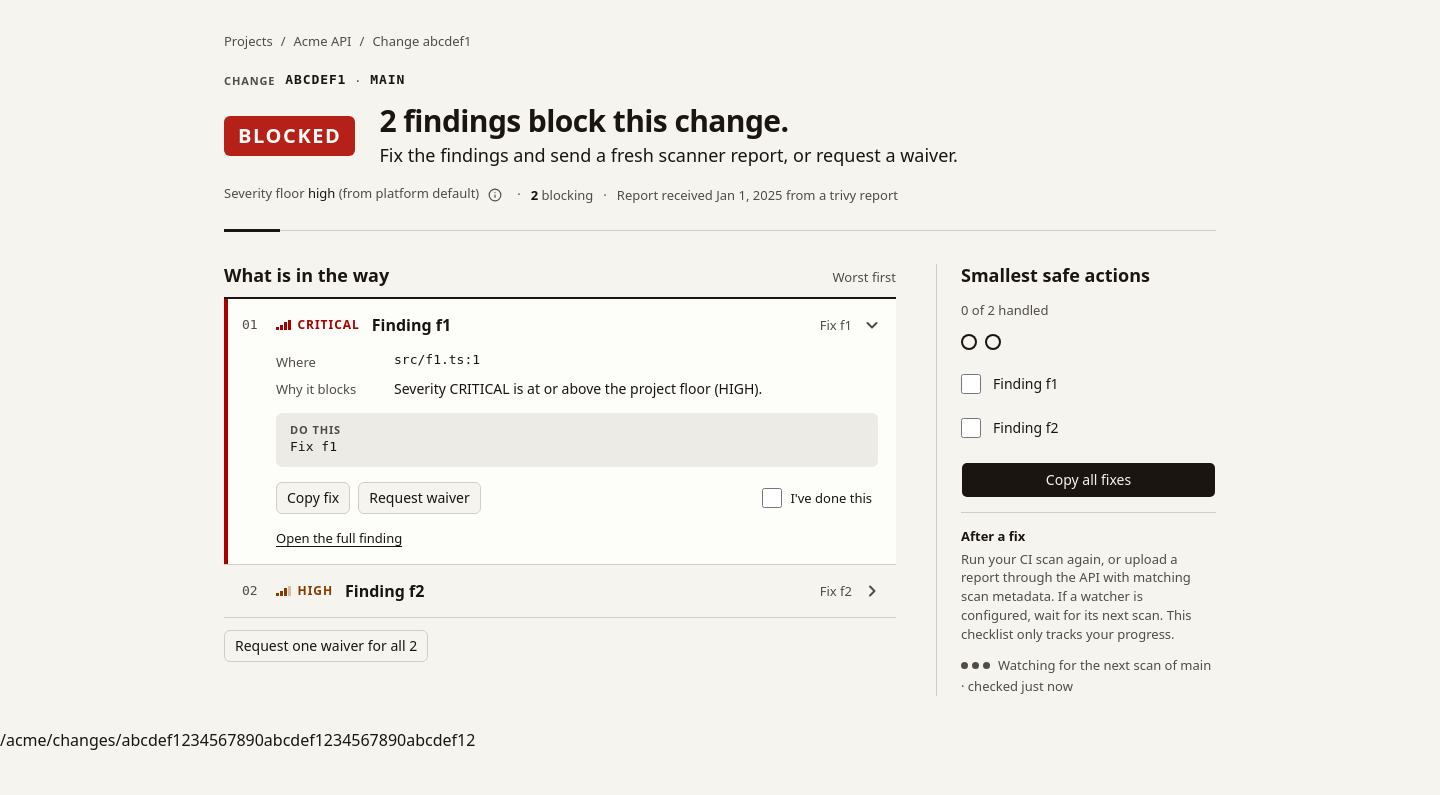
ChangeView waivers › shows the server's refusal inside the dialog and keeps it open
Click the button "Request waiver" below "src/f1.ts:1". click: click(420, 498)
box: [358, 482, 481, 514]
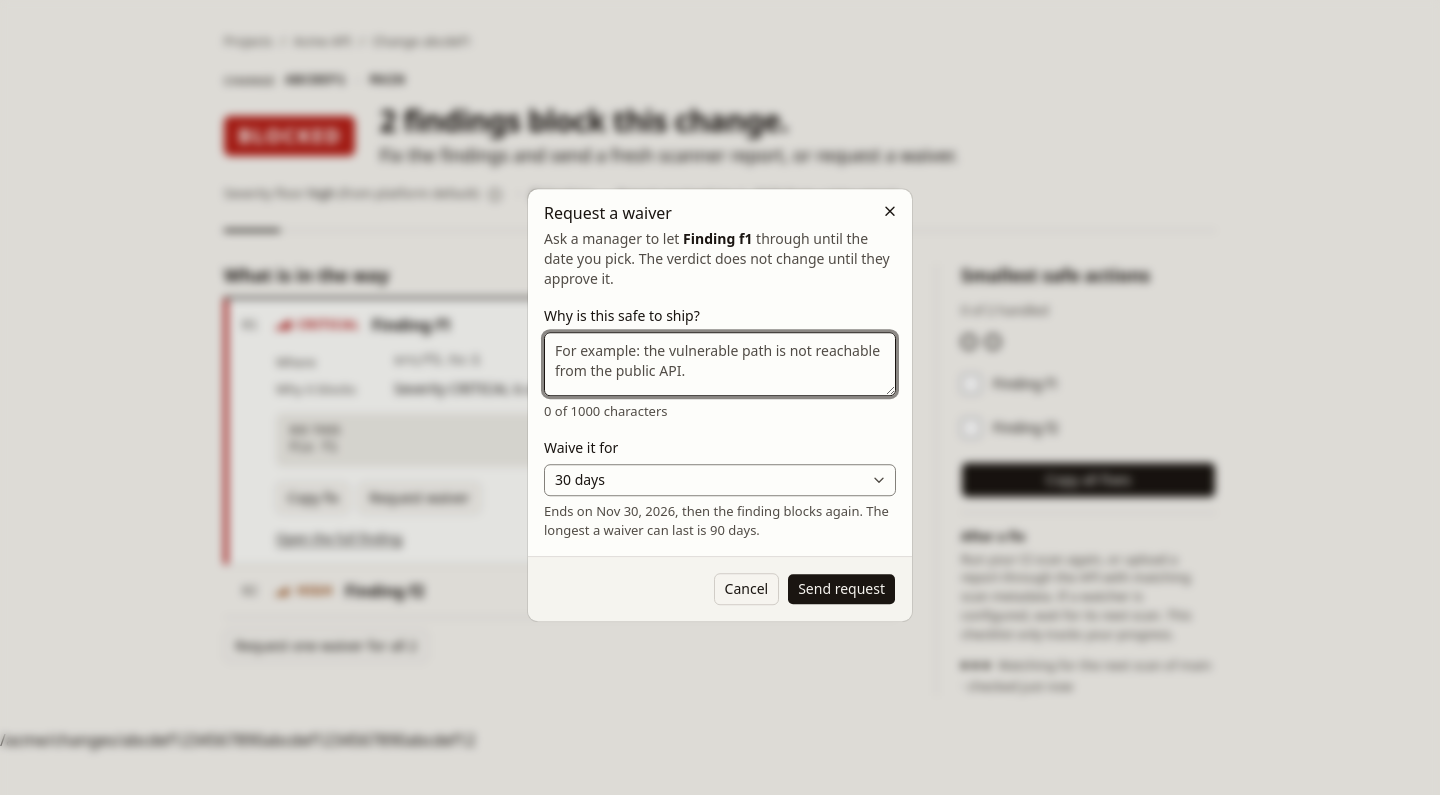
Type "Because." into the text box labelled "Why is this safe to ship?". click: (720, 364)
box: [544, 332, 896, 396]
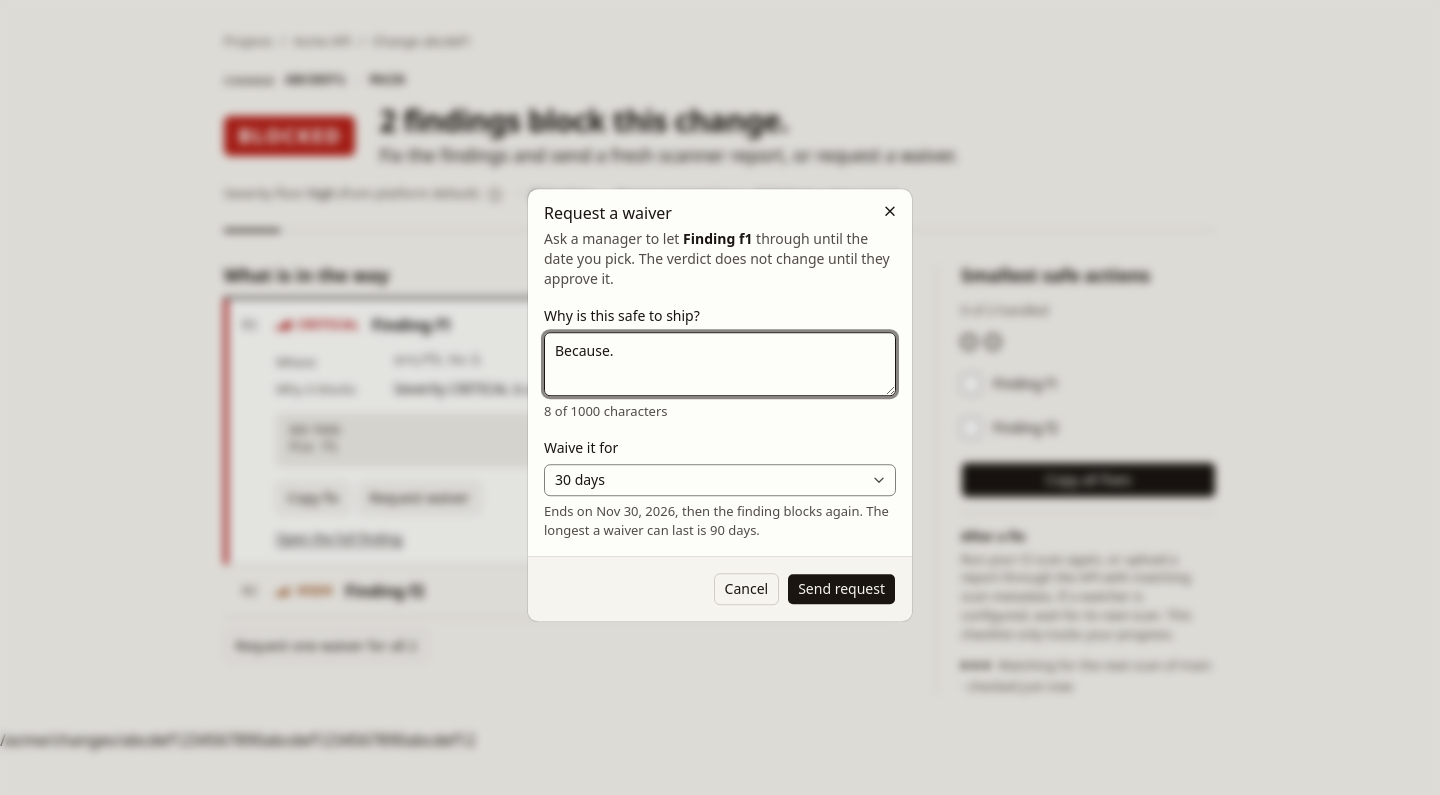
Click the button "Send request". click: click(842, 589)
box: [787, 573, 896, 605]
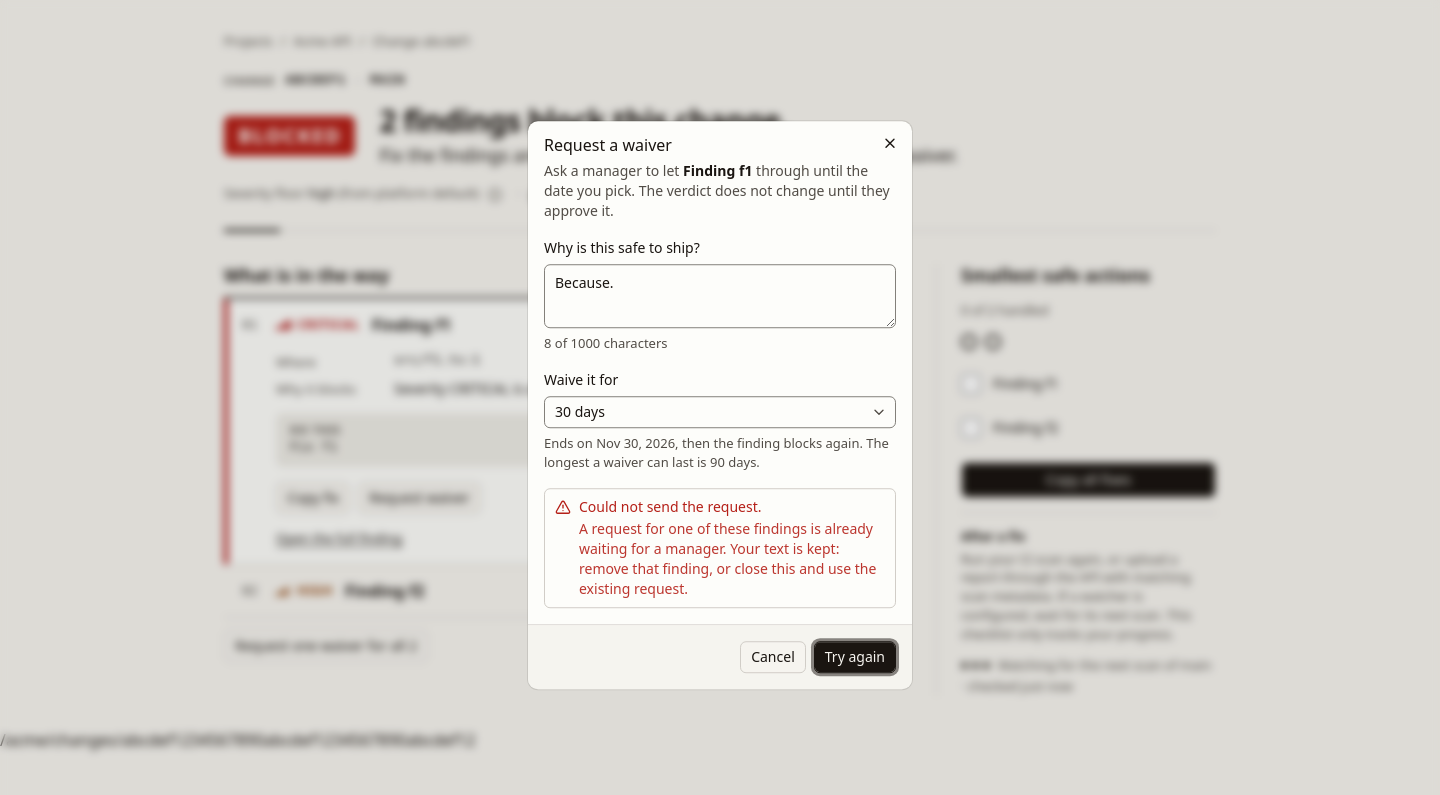
Result: the dialog is shown at [528, 121, 912, 689]
Result: the message shows "A request for one of these findings is already waiting for a manager." at [579, 519, 876, 598]
